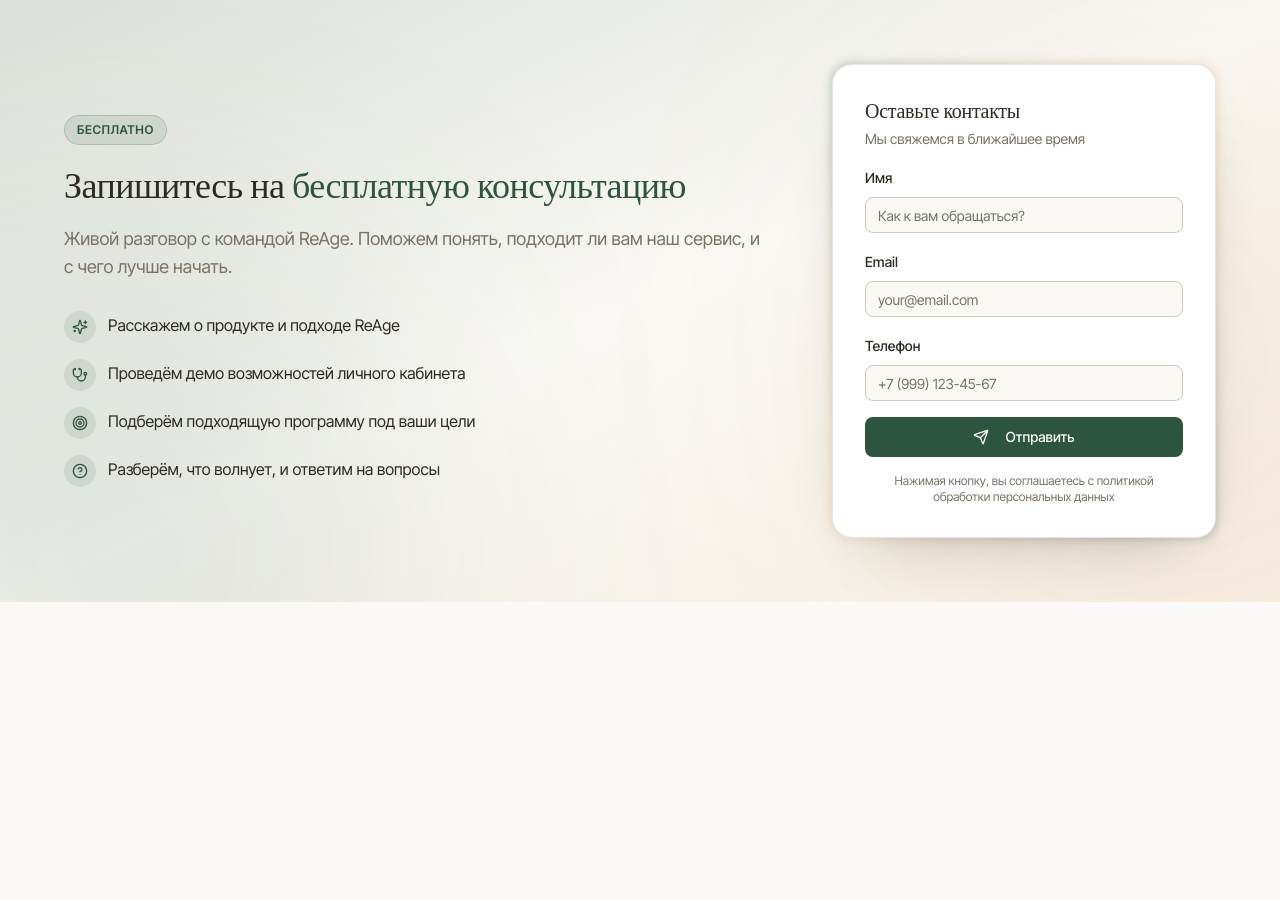
it: ConsultationCtaBlock › shows error state when the edge function fails
Type "Иван" into the field labelled "Имя" at (1024, 215), box left=865, top=197, right=1183, bottom=233
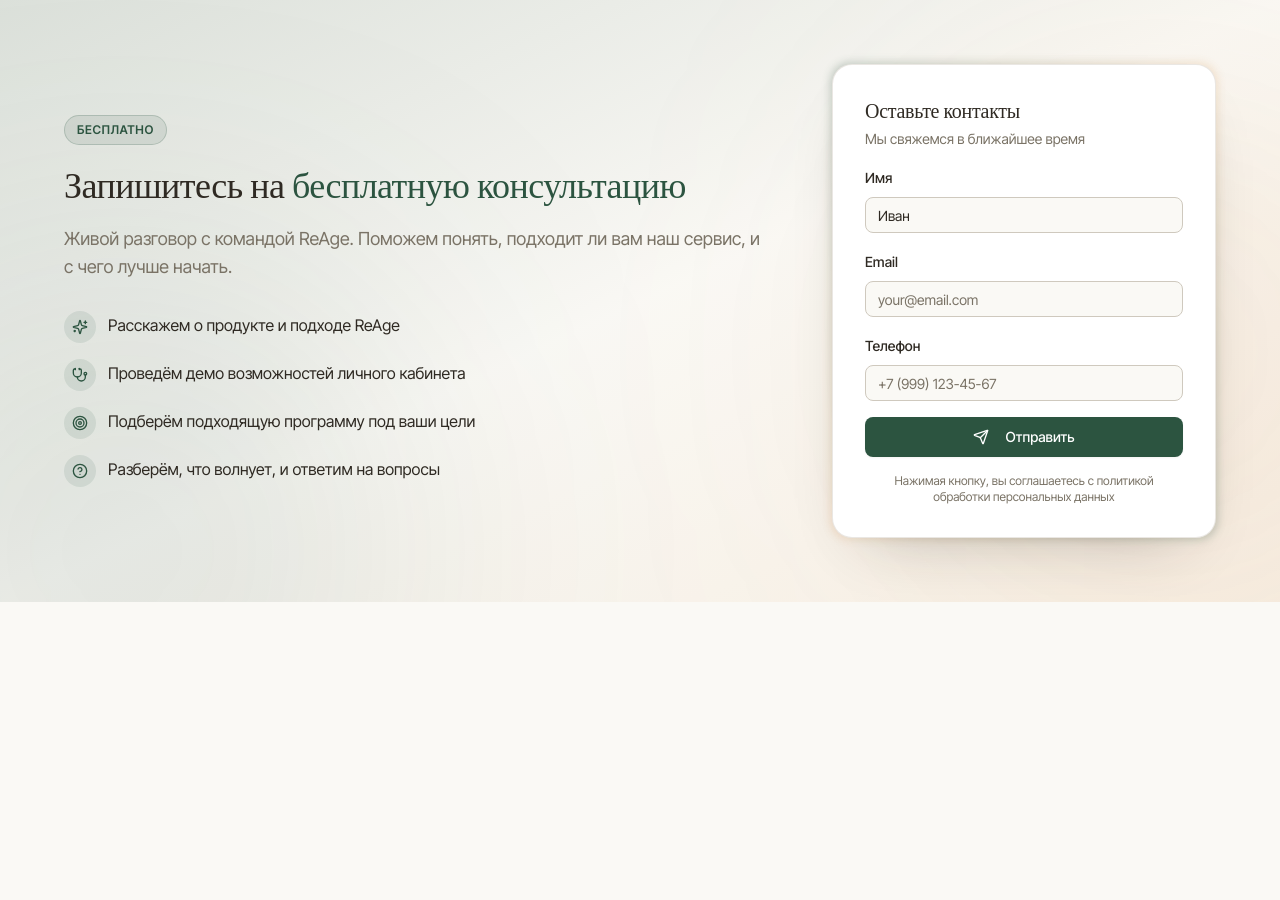
Type "ivan@example.com" into the field labelled "Email" at (1024, 299), box left=865, top=281, right=1183, bottom=317
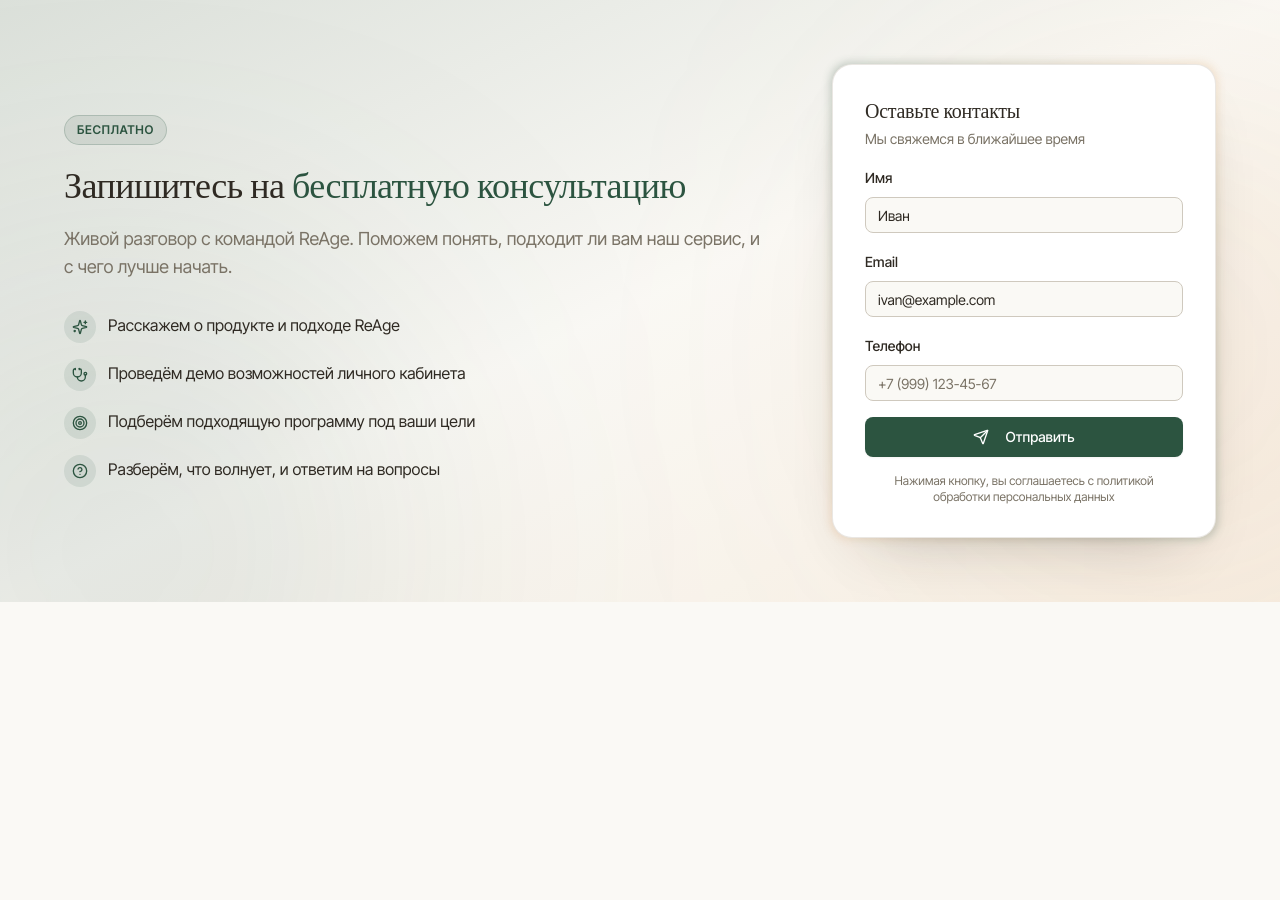
Click the button "Отправить" at (1024, 437), box left=865, top=417, right=1183, bottom=457
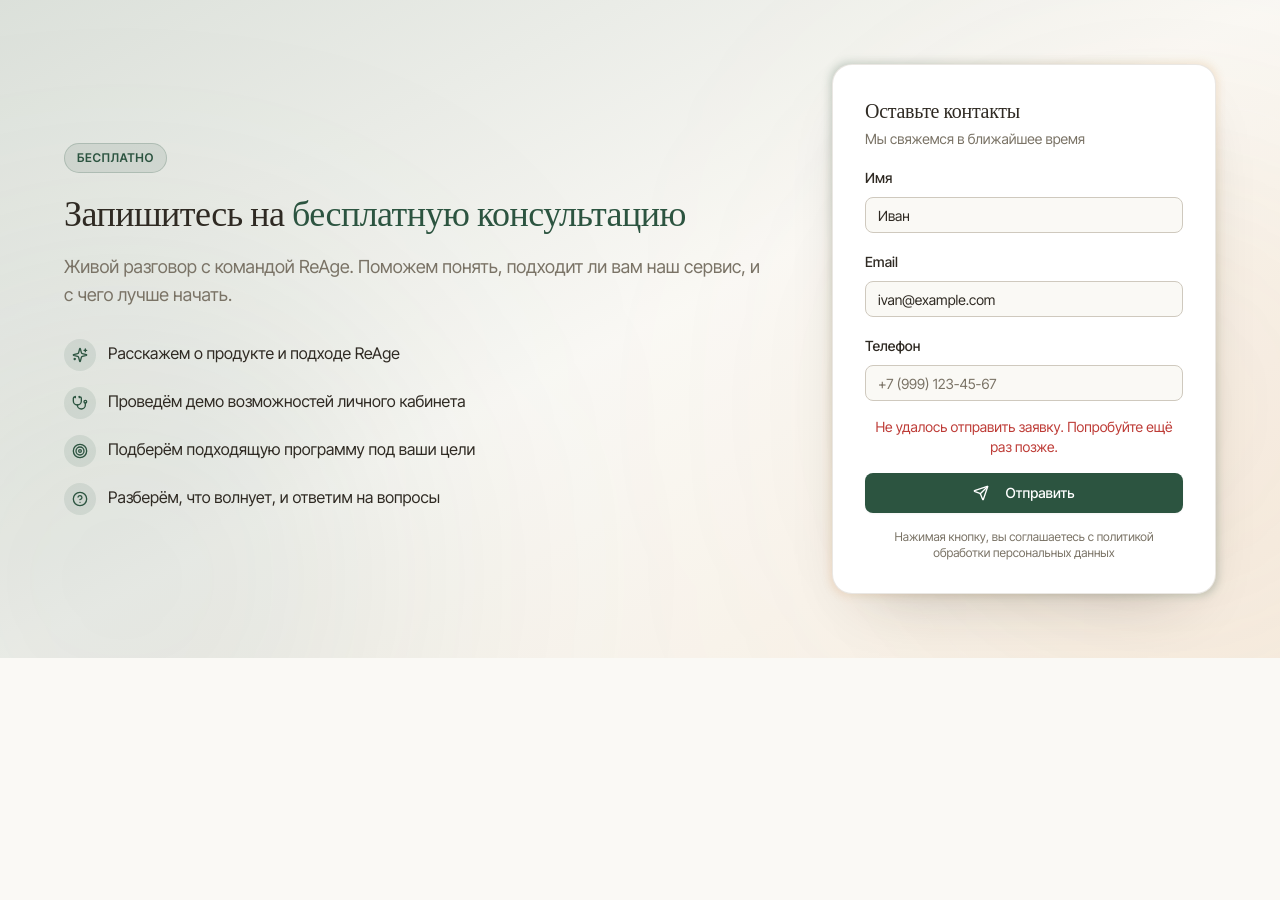
Expected: the text "Не удалось отправить заявку. Попробуйте ещё раз позже." is shown, left=865, top=417, right=1183, bottom=457
